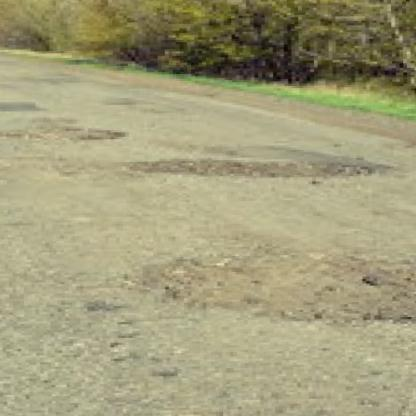pothole: (135, 244, 416, 331), (119, 153, 383, 187), (0, 121, 129, 146)
